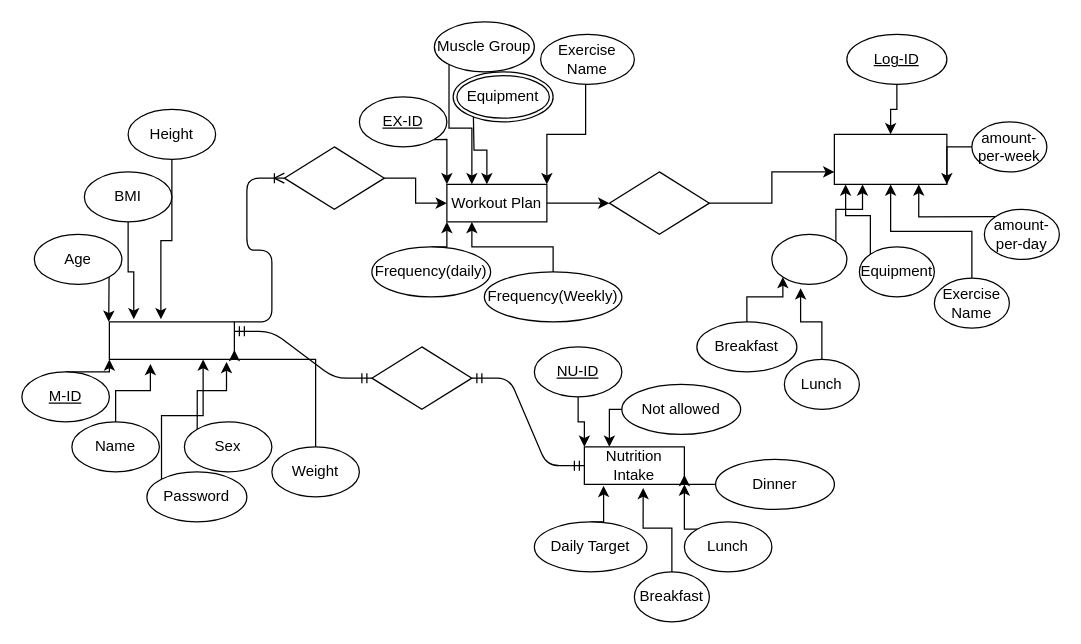
Image size: 1081x644. Some labels were removed from this diagram. The shapes that lost their labels are listed below. From the top down, each one's box as (x1, y1, x2, y2) in pixels, then its label:
(283, 146, 384, 209): Performs
(833, 133, 947, 184): Log
(608, 171, 709, 234): Have
(771, 233, 847, 284): Calorie-Count
(108, 321, 234, 359): Member
(371, 346, 472, 409): Has
